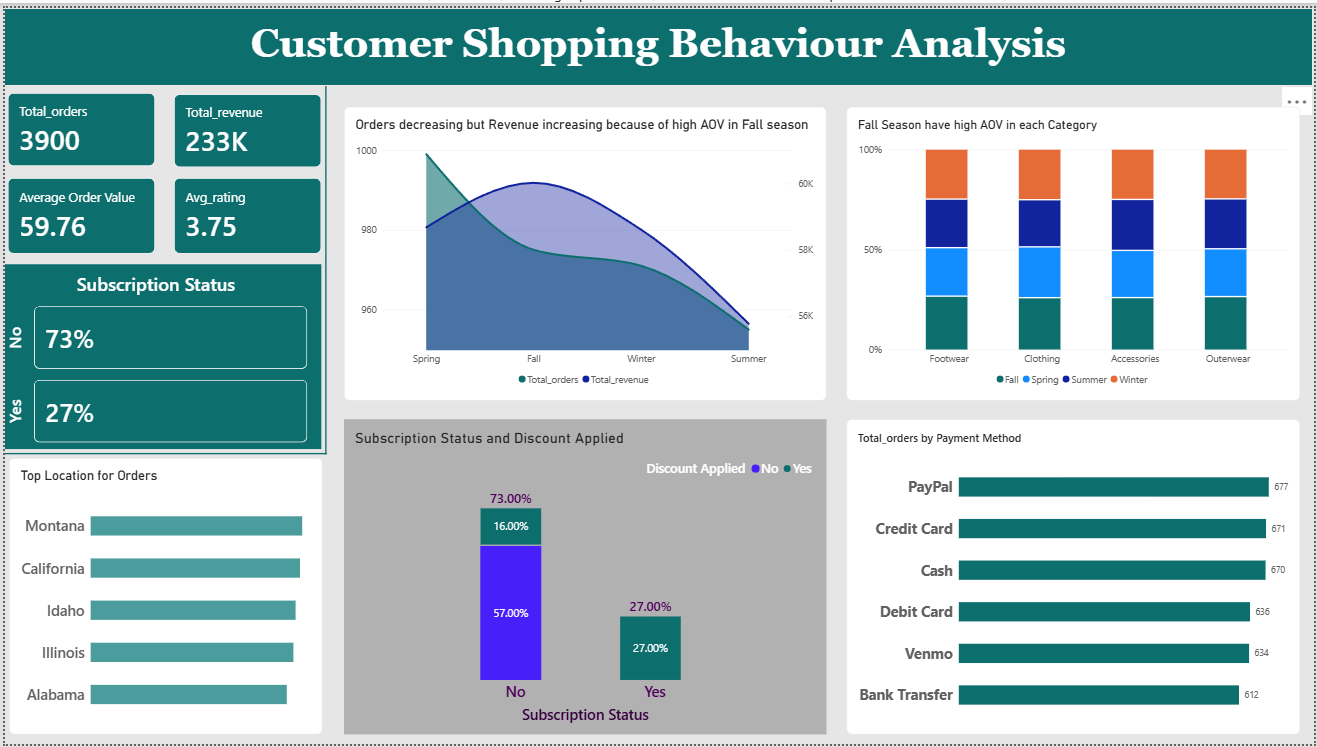

The dashboard page shown, as its layout file describes it:
{"tool":"powerbi","page":{"name":"Dimensions analysis","canvas":[1920,1080],"ordinal":2},"visuals":[{"type":"shape","box":[0,0,1920.5,113.7],"z":0},{"type":"cardVisual","fields":{"Data":["shopping_dataset shopping_behavior_updated.Total_orders"]},"box":[5.5,124.7,216.2,107.4],"z":0,"group":"g1"},{"type":"group","id":"g1","title":"Group 1","box":[5.5,124.7,460.4,236.6],"z":1000},{"type":"cardVisual","fields":{"Data":["KPI.Total_revenue"]},"box":[249.6,126.1,216.2,107.4],"z":1000,"group":"g1"},{"type":"cardVisual","title":"Average Order Value","fields":{"Data":["KPI.AOV"]},"box":[5.5,249.8,216,111.2],"z":2000,"group":"g1"},{"type":"shape","box":[0,647.5,473.2,12.8],"z":2000},{"type":"shape","box":[465.9,106.4,12.8,548.4],"z":3000},{"type":"cardVisual","fields":{"Data":["KPI.Avg_rating"]},"box":[249.6,249.8,216,111.2],"z":3000,"group":"g1"},{"type":"textbox","box":[0,0,1920.5,113.7],"z":4000},{"type":"barChart","fields":{"Category":["shopping_dataset shopping_behavior_updated.Payment Method"],"Y":["KPI.Total_orders"]},"box":[1236.3,603.5,665.8,462.2],"z":5000},{"type":"areaChart","title":"Orders decreasing but Revenue increasing because of high AOV in Fall season","fields":{"Category":["shopping_dataset shopping_behavior_updated.Season"],"Y":["KPI.Total_orders"],"Y2":["KPI.Total_revenue"]},"box":[498.9,144.9,708,431],"z":6000},{"type":"hundredPercentStackedColumnChart","title":"Fall Season have high AOV in each Category","fields":{"Category":["shopping_dataset shopping_behavior_updated.Category"],"Series":["shopping_dataset shopping_behavior_updated.Season"],"Y":["Divide(KPI.AOV, ScopedEval(KPI.AOV, []))"]},"box":[1236.3,144.9,665.8,431],"z":7000},{"type":"clusteredBarChart","title":"Top Location for Orders","fields":{"Category":["shopping_dataset shopping_behavior_updated.Location"],"Y":["KPI.Total_orders"]},"box":[7.3,660.3,460.4,405.4],"z":8000},{"type":"columnChart","title":"Subscription Status and Discount Applied","fields":{"Category":["shopping_dataset shopping_behavior_updated.Subscription Status"],"Y":["Divide(KPI.Total_orders, ScopedEval(KPI.Total_orders, []))"],"Series":["shopping_dataset shopping_behavior_updated.Discount Applied"]},"box":[498.9,603.5,708,462.2],"z":9000},{"type":"cardVisual","title":"Subscription Status","fields":{"Rows":["shopping_dataset shopping_behavior_updated.Subscription Status"],"Data":["KPI.Subscription_pct"]},"box":[0,376,465.9,271.5],"z":10000}]}

Visuals, with their boxes in screenshot pixels (x1, y1, x2, y2), scaled from the page's 1920x1080 canvas onto the 1317x747 screenshot:
shape: region(0, 0, 1316, 79)
cardVisual - shopping_dataset shopping_behavior_updated.Total_orders: region(4, 86, 152, 161)
"Group 1" group: region(4, 86, 320, 250)
cardVisual - KPI.Total_revenue: region(171, 87, 320, 162)
"Average Order Value" cardVisual: region(4, 173, 152, 250)
shape: region(0, 448, 325, 457)
shape: region(320, 74, 328, 453)
cardVisual - KPI.Avg_rating: region(171, 173, 319, 250)
textbox: region(0, 0, 1316, 79)
barChart - shopping_dataset shopping_behavior_updated.Payment Method x KPI.Total_orders: region(848, 417, 1305, 737)
"Orders decreasing but Revenue increasing because of high AOV in Fall season" areaChart: region(342, 100, 828, 398)
"Fall Season have high AOV in each Category" hundredPercentStackedColumnChart: region(848, 100, 1305, 398)
"Top Location for Orders" clusteredBarChart: region(5, 457, 321, 737)
"Subscription Status and Discount Applied" columnChart: region(342, 417, 828, 737)
"Subscription Status" cardVisual: region(0, 260, 320, 448)
